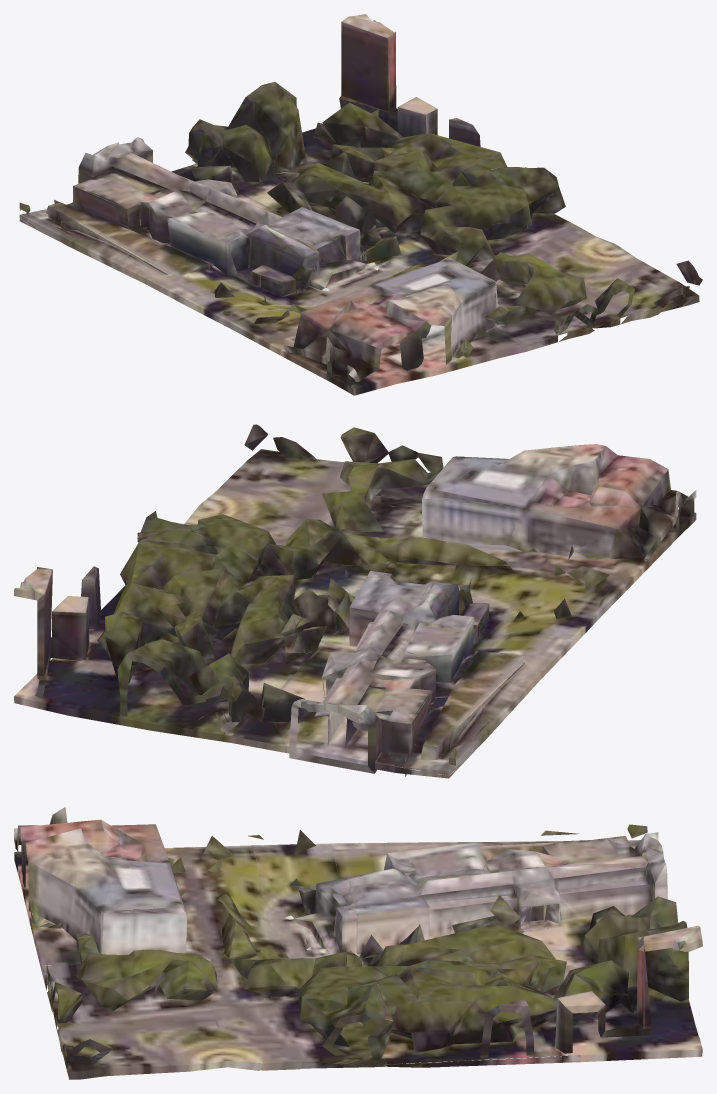
The picture shows the model from 3 angles, top to bottom: view 1: azimuth 30°, elevation 25°; view 2: azimuth 150°, elevation 25°; view 3: azimuth 270°, elevation 25°; orthographic projection. The views are drawn at different scales.
Parts seen in each view (by area): view 1: Mesh_0; view 2: Mesh_0; view 3: Mesh_0.
Part boxes in pixels (left/top/right/bottom): Mesh_0: left=19, top=14, right=702, bottom=395; Mesh_0: left=14, top=424, right=696, bottom=778; Mesh_0: left=14, top=807, right=702, bottom=1079.
Size of the model in its own units: 272 by 77.95 by 330.
1 material, 1 textured.
